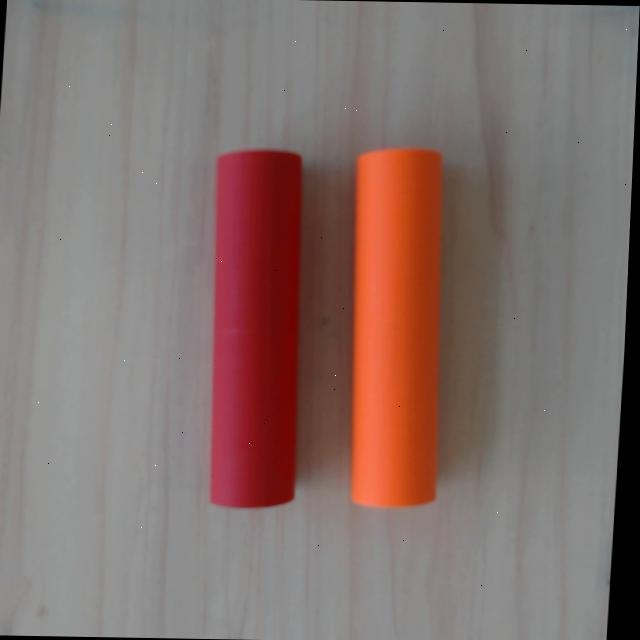Silinder-Jingga-10025: (347, 148, 442, 507)
Silinder-Merah-10025: (207, 148, 301, 508)
